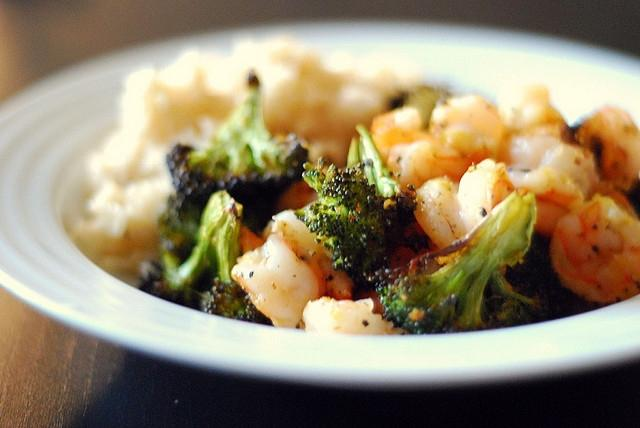broccoli: (373, 186, 537, 336), (166, 68, 309, 238), (292, 124, 430, 294), (138, 190, 274, 327)
